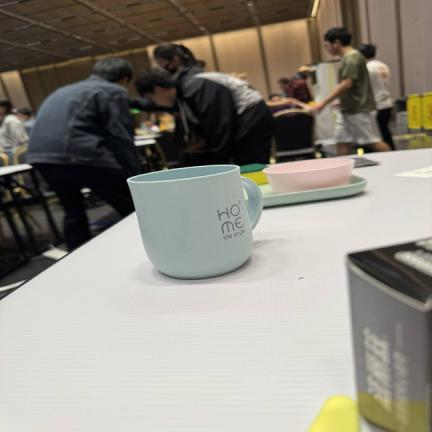cup: (128, 165, 263, 279)
